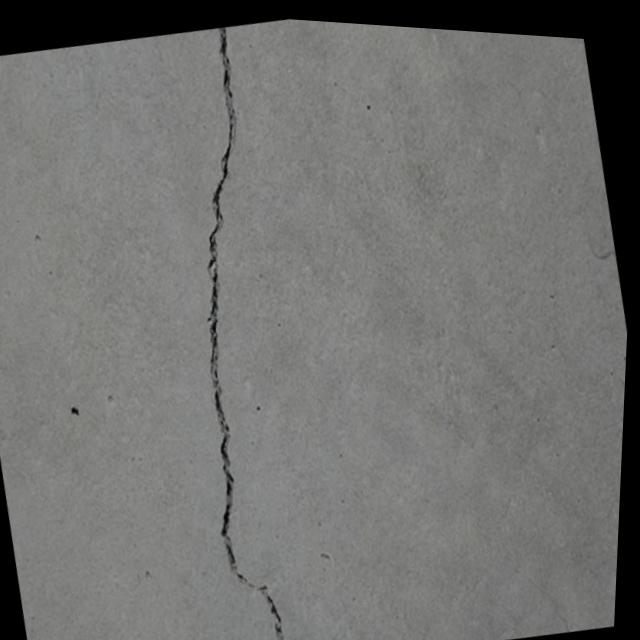Crack: (125, 18, 361, 640)
